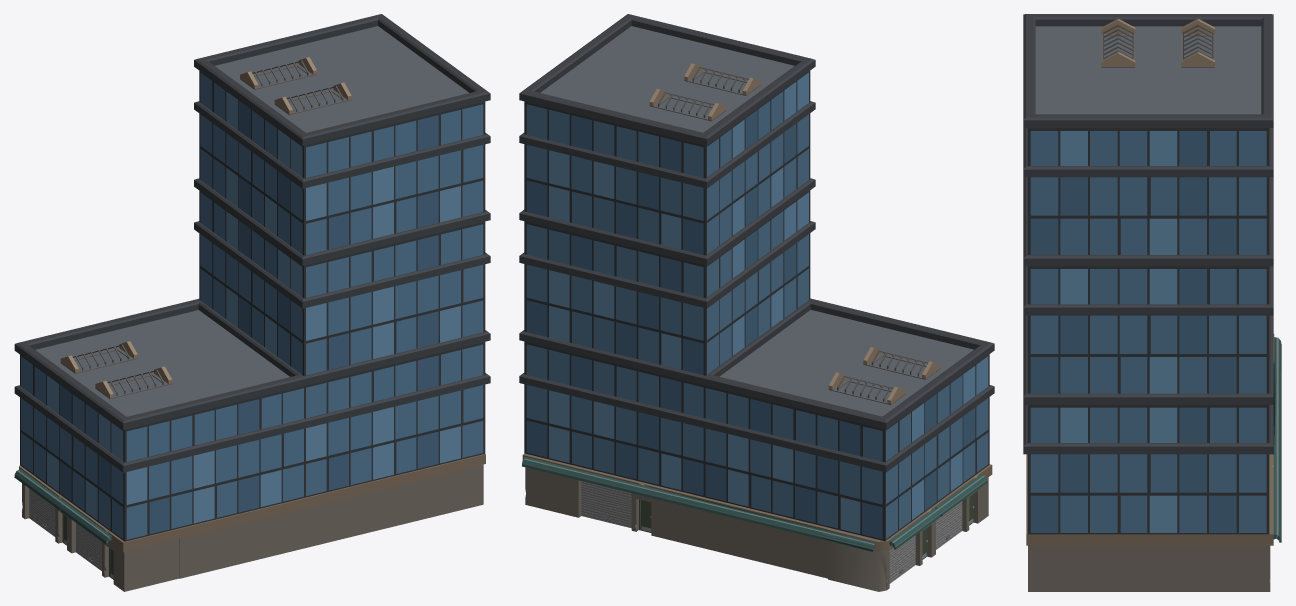
The model's file is the_og_shop.glb.
The picture shows the model from 3 angles, left to right: view 1: azimuth 30°, elevation 25°; view 2: azimuth 150°, elevation 25°; view 3: azimuth 270°, elevation 25°; orthographic projection. The views are drawn at different scales.
Visible parts, largest first — view 1: SM_Prop_Skylight_01_Glass_1.003, SM_Prop_Skylight_01_Glass_1.004, SM_Prop_Skylight_01_Glass_1.002, SM_Prop_Skylight_01_Glass_1.001, SM_Bld_Shop_08, SM_Bld_Shop_08.002, SM_Bld_Shop_08.001; view 2: SM_Prop_Skylight_01_Glass_1.003, SM_Prop_Skylight_01_Glass_1.004, SM_Prop_Skylight_01_Glass_1.002, SM_Prop_Skylight_01_Glass_1.001, SM_Bld_Shop_08, SM_Bld_Shop_08.001, SM_Bld_Shop_08.002; view 3: SM_Prop_Skylight_01_Glass_1.003, SM_Prop_Skylight_01_Glass_1.001, SM_Prop_Skylight_01_Glass_1.002, SM_Bld_Shop_08.
Boxes of the visible parts, box(x1,y1,x2,y2) form: SM_Prop_Skylight_01_Glass_1.003: box(194, 14, 490, 255); SM_Prop_Skylight_01_Glass_1.004: box(14, 299, 308, 541); SM_Prop_Skylight_01_Glass_1.002: box(194, 178, 490, 375); SM_Prop_Skylight_01_Glass_1.001: box(197, 298, 490, 497); SM_Bld_Shop_08: box(179, 454, 485, 578); SM_Bld_Shop_08.002: box(59, 501, 180, 591); SM_Bld_Shop_08.001: box(14, 465, 68, 550); SM_Prop_Skylight_01_Glass_1.003: box(519, 14, 815, 255); SM_Prop_Skylight_01_Glass_1.004: box(698, 299, 994, 541); SM_Prop_Skylight_01_Glass_1.002: box(519, 178, 815, 375); SM_Prop_Skylight_01_Glass_1.001: box(519, 298, 811, 497); SM_Bld_Shop_08: box(522, 453, 875, 578); SM_Bld_Shop_08.001: box(827, 505, 940, 591); SM_Bld_Shop_08.002: box(933, 464, 992, 555); SM_Prop_Skylight_01_Glass_1.003: box(1023, 14, 1273, 254); SM_Prop_Skylight_01_Glass_1.001: box(1023, 315, 1273, 534); SM_Prop_Skylight_01_Glass_1.002: box(1023, 177, 1273, 393); SM_Bld_Shop_08: box(1026, 337, 1281, 591).
Size of the model in its own units: 4.62 by 4.96 by 2.41.
Materials: 2 (1 with a texture image).
